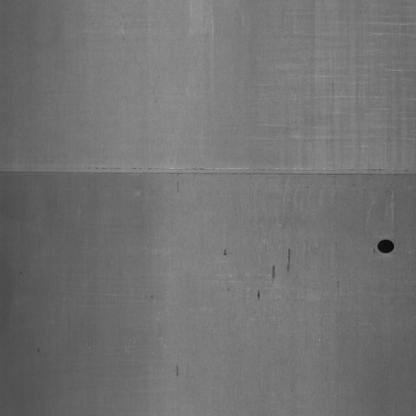punching_hole: (372, 231, 400, 260)
welding_line: (2, 161, 416, 185)
